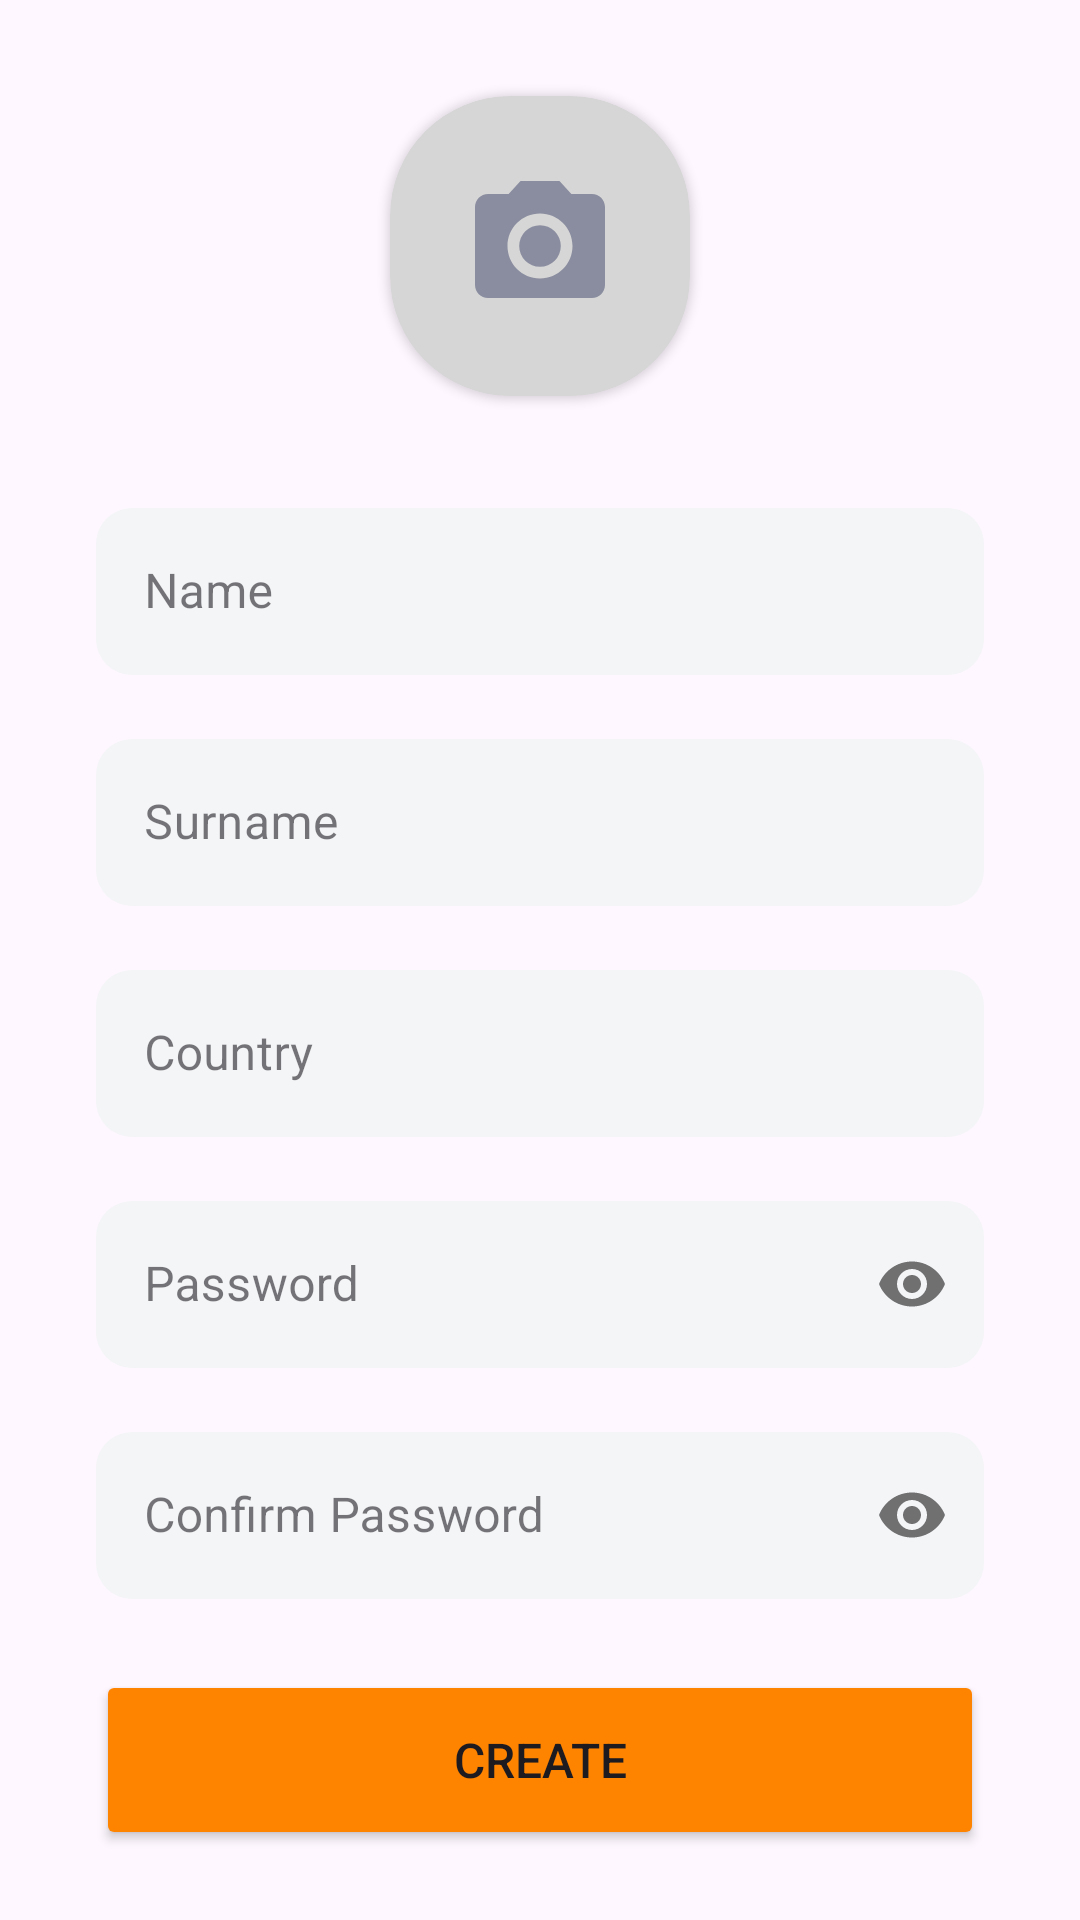

Icons on this 1080 x 1920 Android screen, each with its box as (x1, y1, x2, y2):
photo camera: (390, 96, 690, 396)
